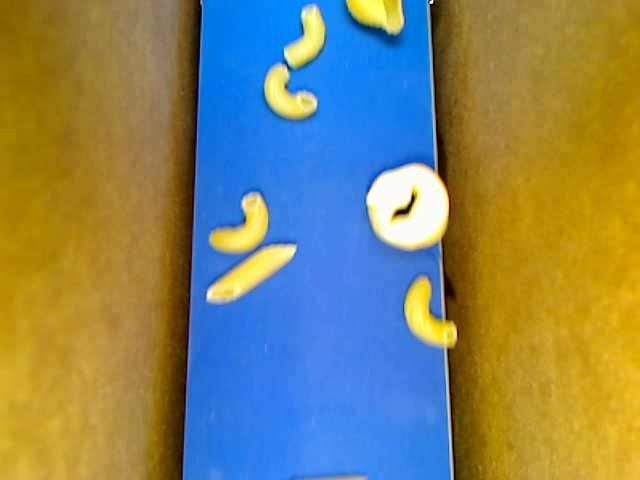elbow: (209, 191, 271, 252), (404, 275, 457, 346), (264, 61, 318, 121), (281, 4, 325, 70)
penne: (204, 243, 297, 304)
shell: (346, 1, 405, 36)
tortellini: (366, 163, 449, 251)
